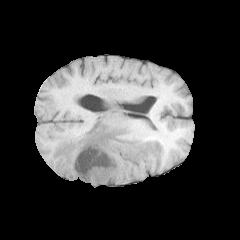glioma: (52, 119, 157, 185)
